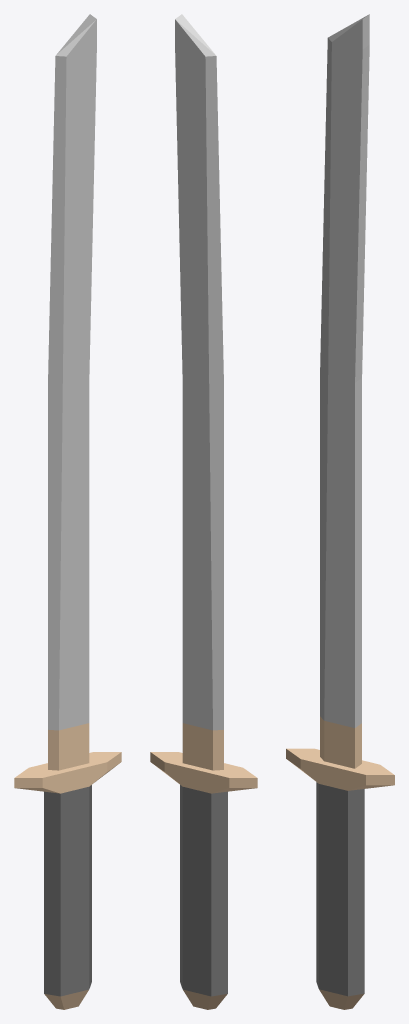
The model's file is Katana.fbx.
3 renders of one model, left to right at view 1: azimuth 30°, elevation 25°; view 2: azimuth 150°, elevation 25°; view 3: azimuth 330°, elevation 25°, orthographic.
Visible parts, largest first — view 1: Katana; view 2: Katana; view 3: Katana.
Boxes of the visible parts, box(x1,y1,x2,y2) form: Katana: box(14, 14, 121, 1009); Katana: box(150, 14, 257, 1009); Katana: box(286, 14, 394, 1009).
Bounding box in the file's own units: 0.1122 × 0.98 × 0.0252.
